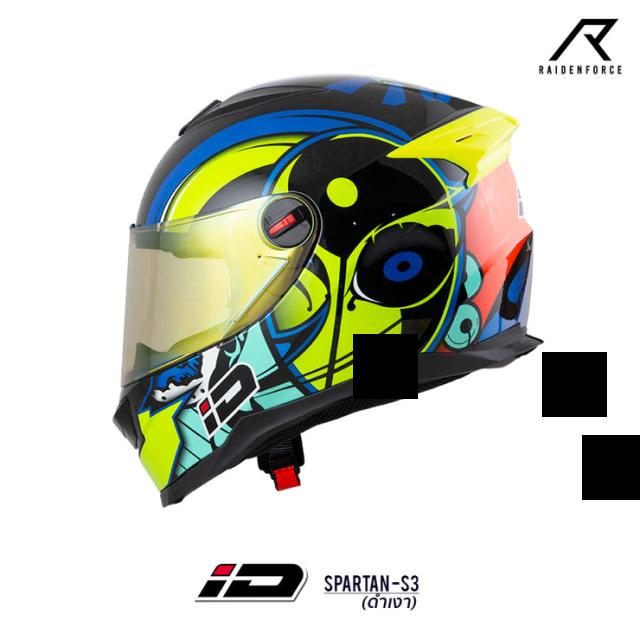Helmet: (114, 75, 540, 504)
